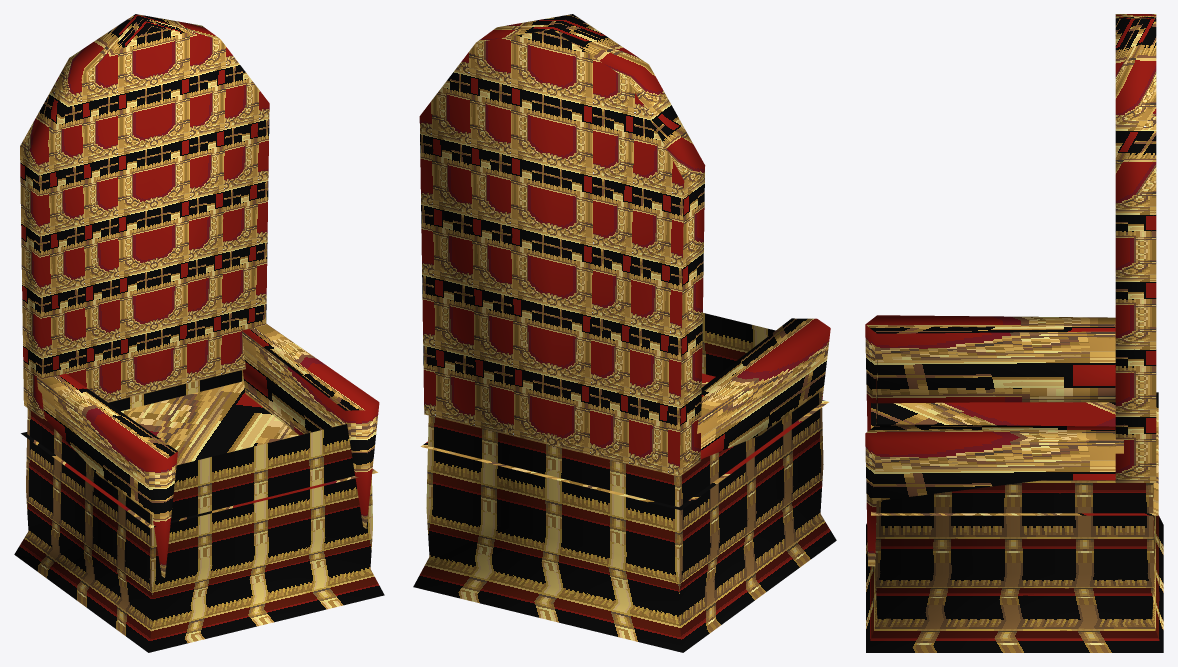
Rendered from 3453IMSY01_15.gltf.
The picture shows the model from 3 angles, left to right: view 1: azimuth 30°, elevation 25°; view 2: azimuth 150°, elevation 25°; view 3: azimuth 270°, elevation 25°; orthographic projection. The views are drawn at different scales.
Parts seen in each view (by area): view 1: 3453IMSY01_15; view 2: 3453IMSY01_15; view 3: 3453IMSY01_15.
Part boxes in pixels (left/top/right/bottom): 3453IMSY01_15: left=14, top=14, right=384, bottom=652; 3453IMSY01_15: left=413, top=14, right=836, bottom=652; 3453IMSY01_15: left=865, top=14, right=1163, bottom=652.
Size of the model in its own units: 0.8911 by 1.85 by 0.8799.
3 materials, 3 textured.
